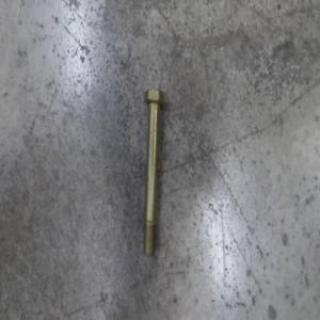Bolttrack_idkeyframe: (141, 85, 165, 261)
